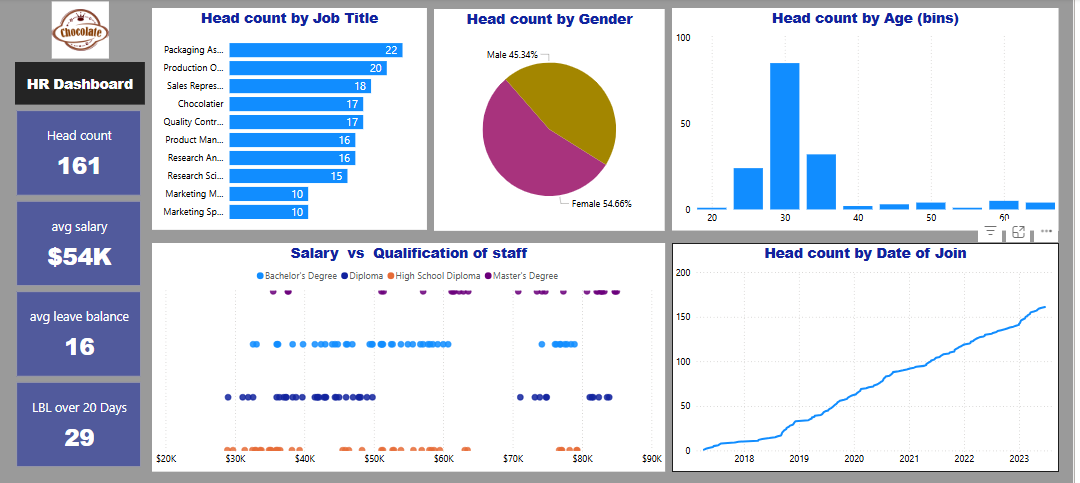

The dashboard page shown, as its layout file describes it:
{"tool":"powerbi","page":{"name":"Page 1","canvas":[1577,720],"ordinal":0},"visuals":[{"type":"cardVisual","fields":{"Data":["data.count of peoples","data.Total avg salary","data.avg leave balance","data.LB over 20"]},"box":[19.8,160.3,193.9,535.9],"z":0},{"type":"barChart","fields":{"Y":["data.count of peoples"],"Category":["data.Job Title"]},"box":[224.8,14.7,404.1,326.2],"z":1000},{"type":"pieChart","fields":{"Category":["data.Gender"],"Y":["data.count of peoples"]},"box":[639.4,16.4,339,325.7],"z":2000},{"type":"columnChart","fields":{"Category":["data.Age (bins)"],"Y":["data.count of peoples"]},"box":[988.8,14.9,568,327.1],"z":3000},{"type":"scatterChart","title":"Salary  vs  Qualification of staff","fields":{"X":["data.Salary"],"Y":["Education Qualification.Custom"],"Series":["data.Education Qualification"]},"box":[224.5,360.3,754.3,335.9],"z":4000},{"type":"image","box":[60.2,57.3,113.1,13.2],"z":5000},{"type":"shape","box":[22.9,94.7,190.9,62.6],"z":6000},{"type":"image","box":[23.5,0,191,94],"z":7000},{"type":"lineChart","title":" Head count by Date of Join","fields":{"Y":["Education Qualification.cumulative head count"],"Category":["data.Date of Join"]},"box":[988.8,359.9,568,336.1],"z":8000}]}

Visuals, with their boxes in screenshot pixels (x1, y1, x2, y2), scaled from the page's 1577x720 canvas onto the 1080x483 screenshot:
cardVisual - data.count of peoples x data.Total avg salary: 14 108 146 467
barChart - data.count of peoples x data.Job Title: 154 10 431 229
pieChart - data.Gender x data.count of peoples: 438 11 670 229
columnChart - data.Age (bins) x data.count of peoples: 677 10 1066 229
"Salary  vs  Qualification of staff" scatterChart: 154 242 670 467
image: 41 38 119 47
shape: 16 64 146 106
image: 16 0 147 63
" Head count by Date of Join" lineChart: 677 241 1066 467
